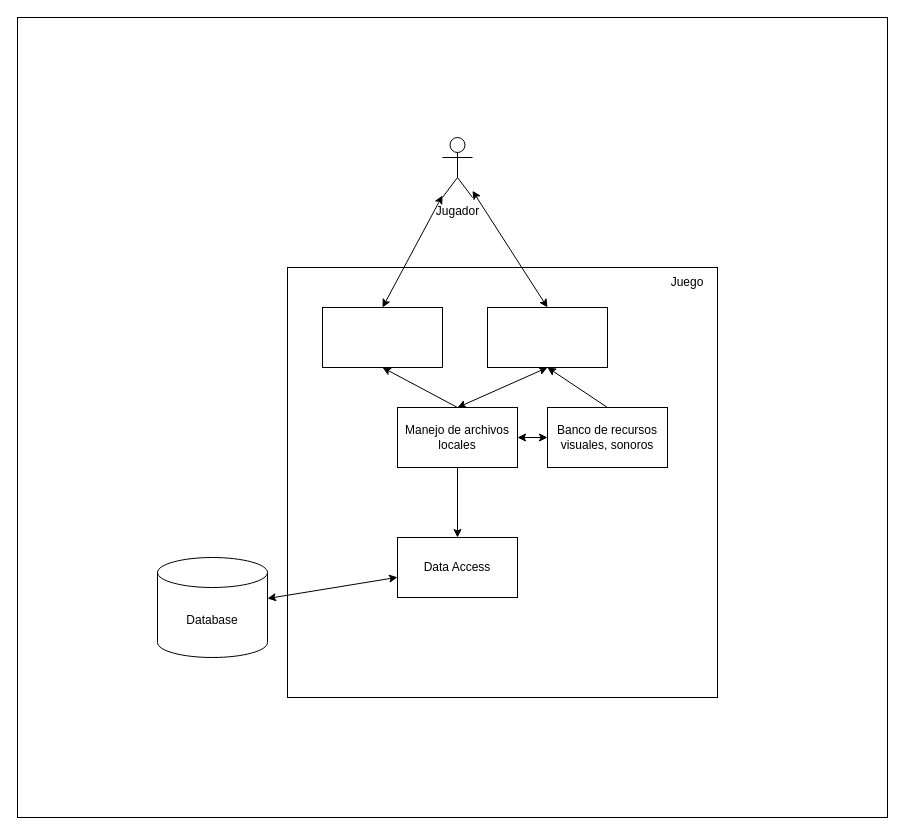
Image size: 905x835. Some labels were removed from this diagram. Each missing label, with the centre of its shape:
"Interfaz de usuario" belongs at pixel 382 337.
"Sistema de gameplay" belongs at pixel 547 337.
